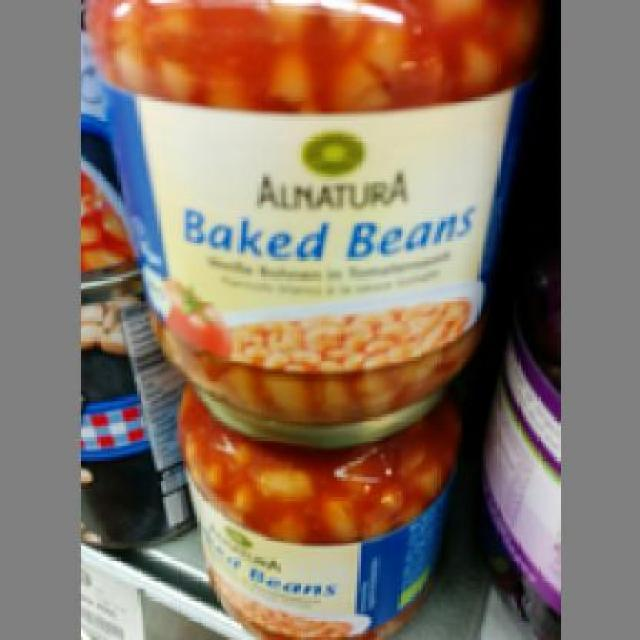Beans: (81, 0, 512, 415), (157, 383, 474, 637)
